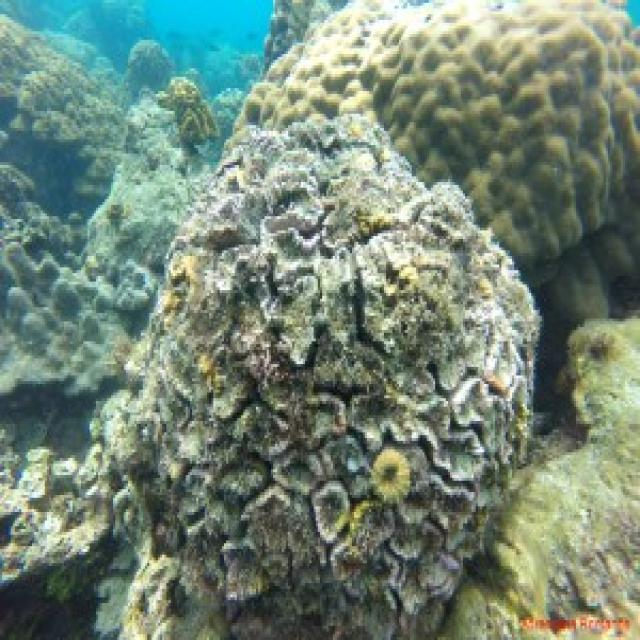Healthy: (142, 115, 539, 638), (376, 1, 639, 257), (1, 203, 127, 394), (1, 15, 123, 194), (238, 10, 389, 129), (1, 445, 108, 584), (129, 78, 242, 157)
